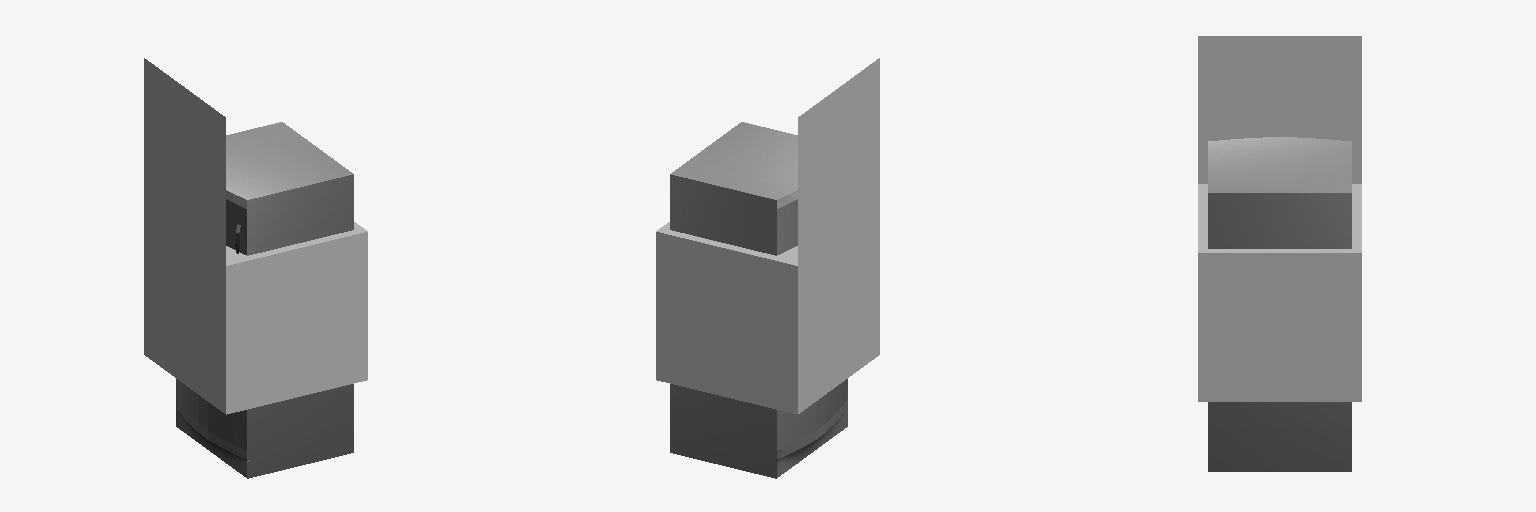
The picture shows the model from 3 angles: view 1: azimuth 30°, elevation 25°; view 2: azimuth 150°, elevation 25°; view 3: azimuth 270°, elevation 25°; orthographic projection.
Parts seen in each view (by area): view 1: Minecraft_Block_Cube, core, Minecraft_2_Edge_Connectivity_Cube.002, doorfridge, doorfreezer; view 2: Minecraft_Block_Cube, core, Minecraft_2_Edge_Connectivity_Cube.002, doorfridge, doorfreezer; view 3: Minecraft_Block_Cube, core.
Part boxes in pixels (x1,y1,x2,y2): Minecraft_Block_Cube: (144,58,367,414); core: (176,122,353,478); Minecraft_2_Edge_Connectivity_Cube.002: (227,324,366,413); doorfridge: (176,379,246,450); doorfreezer: (226,199,246,254); Minecraft_Block_Cube: (656,58,879,413); core: (670,122,847,478); Minecraft_2_Edge_Connectivity_Cube.002: (657,324,797,414); doorfridge: (777,379,847,450); doorfreezer: (777,199,797,254); Minecraft_Block_Cube: (1198,36,1361,401); core: (1208,137,1351,471).
Bounding box in the file's own units: 1 × 2.5 × 1.
Materials: 8 (1 with a texture image).